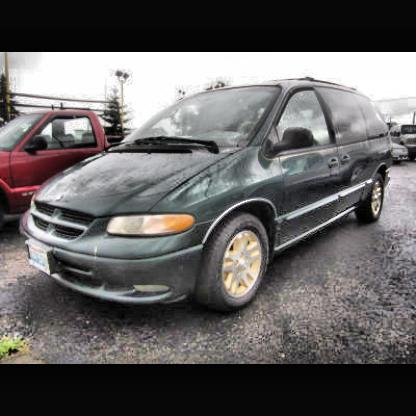Dodge Caravan Minivan 1997: (27, 83, 393, 312)
